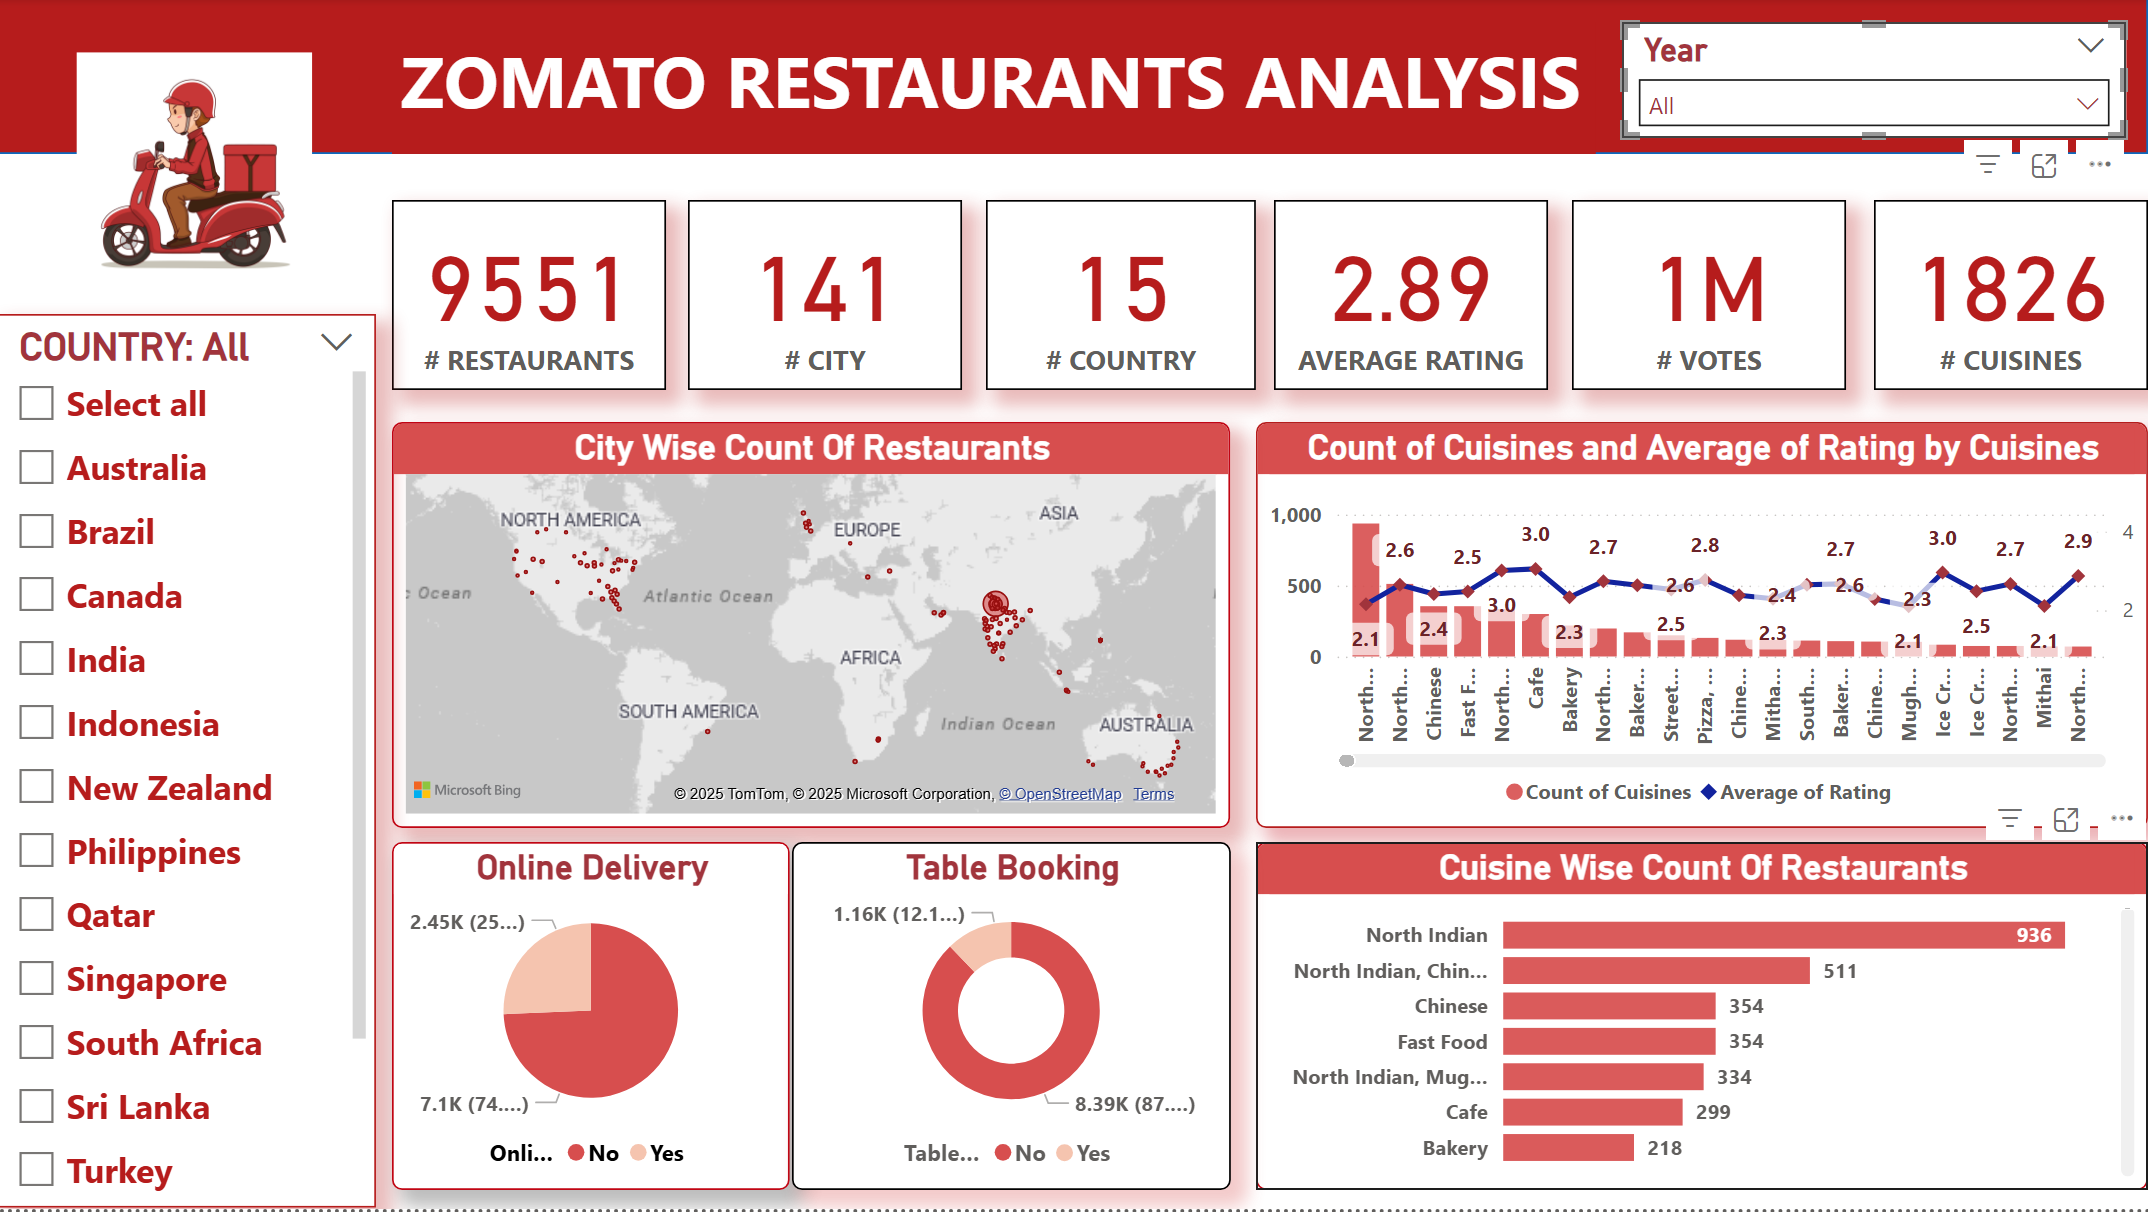

This screenshot's page, from the dashboard's own definition file:
{"tool":"powerbi","page":{"name":"Page 1","canvas":[1280,720],"ordinal":0},"visuals":[{"type":"shape","box":[0,0,1280,92.8],"z":0},{"type":"textbox","box":[235.5,14.3,716.1,78.5],"z":1000},{"type":"image","box":[0,27.4,235.5,149.9],"z":2000},{"type":"card","fields":{"Values":["CountNonNull(Restaurant.RestaurantID)"]},"box":[235.5,120.1,163,113],"z":3000},{"type":"card","fields":{"Values":["Count(Restaurant.City)"]},"box":[411.6,120.1,163,113],"z":4000},{"type":"card","fields":{"Values":["Count(Restaurant.CountryCode)"]},"box":[588.8,120.1,160.6,113],"z":5000},{"type":"card","fields":{"Values":["Avg(Restaurant.Rating)"]},"box":[760.1,120.1,163,113],"z":6000},{"type":"card","fields":{"Values":["Sum(Restaurant.Votes)"]},"box":[937.4,120.1,163,113],"z":7000},{"type":"card","fields":{"Values":["Count(Restaurant.Cuisines)"]},"box":[1117,120.1,163,113],"z":8000},{"type":"slicer","fields":{"Values":["Country.country name"]},"box":[0,188,226,531.7],"z":9000},{"type":"lineStackedColumnComboChart","fields":{"Category":["Restaurant.Cuisines"],"Y":["CountNonNull(Restaurant.Cuisines)"],"Y2":["Avg(Restaurant.Rating)"]},"box":[749.4,252.2,530.6,241.5],"z":10000},{"type":"map","title":"City Wise Count Of Restaurants","fields":{"Category":["Restaurant.City"],"Size":["CountNonNull(Restaurant.RestaurantID)"]},"box":[235.5,252.2,498.4,241.5],"z":11000},{"type":"clusteredBarChart","title":"Cuisine Wise Count Of Restaurants","fields":{"Category":["Restaurant.Cuisines"],"Y":["CountNonNull(Restaurant.RestaurantID)"]},"box":[749.4,502,530.6,207],"z":12000},{"type":"pieChart","title":"Online Delivery","fields":{"Category":["Restaurant.Has_Online_delivery"],"Y":["CountNonNull(Restaurant.RestaurantID)"]},"box":[235.5,502,236.7,207],"z":13000},{"type":"donutChart","title":"Table Booking","fields":{"Category":["Restaurant.Has_Table_booking"],"Y":["CountNonNull(Restaurant.RestaurantID)"]},"box":[473,502,261,207],"z":14000},{"type":"slicer","fields":{"Values":["Restaurant.Datekey_Opening.Variation.Date Hierarchy.Year"]},"box":[967.1,14.3,299.8,69],"z":14001}]}

Visuals, with their boxes in screenshot pixels (x1, y1, x2, y2), scaled from the page's 1280x720 canvas onto the 2148x1212 screenshot:
shape: BBox(0, 0, 2147, 156)
textbox: BBox(395, 24, 1597, 156)
image: BBox(0, 46, 395, 298)
card - CountNonNull(Restaurant.RestaurantID): BBox(395, 202, 669, 392)
card - Count(Restaurant.City): BBox(691, 202, 964, 392)
card - Count(Restaurant.CountryCode): BBox(988, 202, 1258, 392)
card - Avg(Restaurant.Rating): BBox(1276, 202, 1549, 392)
card - Sum(Restaurant.Votes): BBox(1573, 202, 1847, 392)
card - Count(Restaurant.Cuisines): BBox(1874, 202, 2147, 392)
slicer - Country.country name: BBox(0, 316, 379, 1211)
lineStackedColumnComboChart - Restaurant.Cuisines x CountNonNull(Restaurant.Cuisines): BBox(1258, 425, 2147, 831)
"City Wise Count Of Restaurants" map: BBox(395, 425, 1232, 831)
"Cuisine Wise Count Of Restaurants" clusteredBarChart: BBox(1258, 845, 2147, 1193)
"Online Delivery" pieChart: BBox(395, 845, 792, 1193)
"Table Booking" donutChart: BBox(794, 845, 1232, 1193)
slicer - Restaurant.Datekey_Opening.Variation.Date Hierarchy.Year: BBox(1623, 24, 2126, 140)
